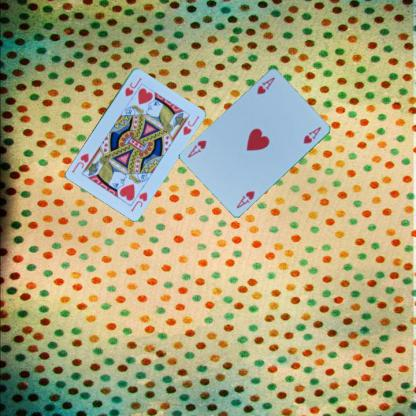Ah: (233, 188, 256, 210), (254, 74, 276, 95)
Jh: (122, 75, 143, 98), (128, 189, 148, 213)
